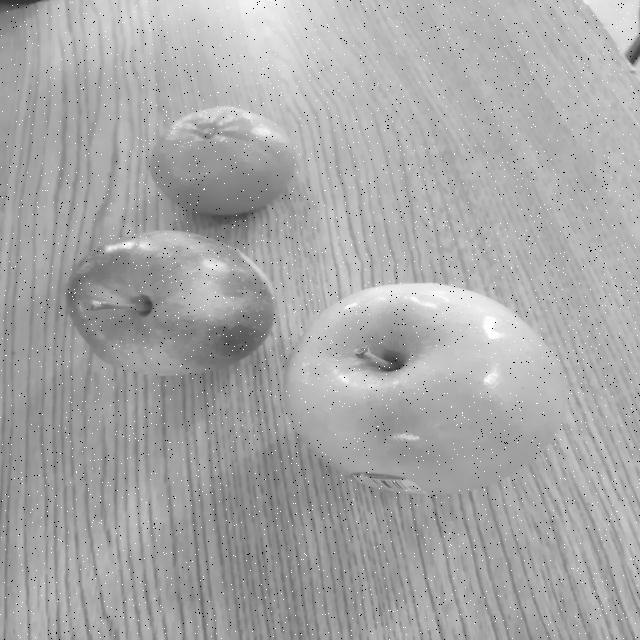Apel Gala: (61, 228, 280, 378)
Apel Granny Smith: (280, 278, 572, 500)
Jeruk Mandarin: (149, 104, 301, 220)
